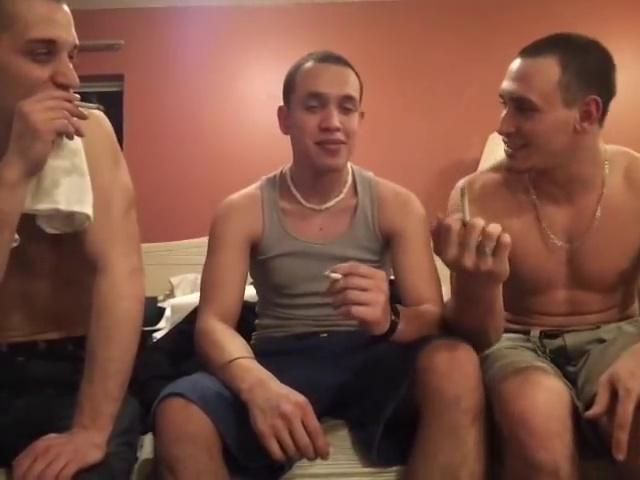cigarette: (460, 180, 475, 229), (68, 96, 109, 112), (319, 268, 345, 283)
